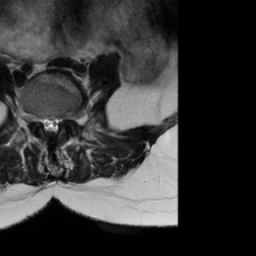CCS_stenosis: (48, 109, 53, 142)
LFS_stenosis: (60, 104, 67, 128)
LLS_stenosis: (53, 109, 60, 138)
RFS_stenosis: (32, 107, 40, 127)
RLS_normal: (40, 109, 48, 138)
